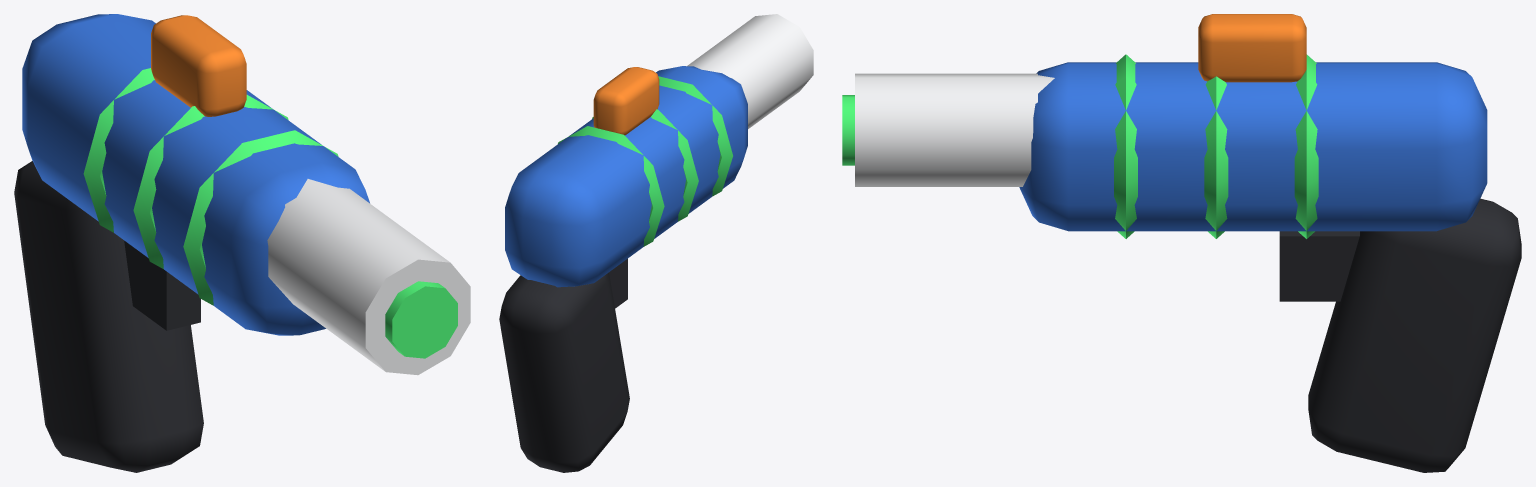
The model's file is Blaster.fbx.
3 views of the same model, side by side, from view 1: azimuth 30°, elevation 25°; view 2: azimuth 150°, elevation 25°; view 3: azimuth 270°, elevation 25° (orthographic). The views are drawn at different scales.
Parts seen in each view (by area): view 1: Blaster; view 2: Blaster; view 3: Blaster.
Boxes of the visible parts, <box> form: Blaster: <box>14,14,470,472</box>; Blaster: <box>499,14,813,472</box>; Blaster: <box>842,14,1521,472</box>.
Bounding box in the file's own units: 0.494 × 1.36 × 1.88.
Materials: 1 (1 with a texture image).
